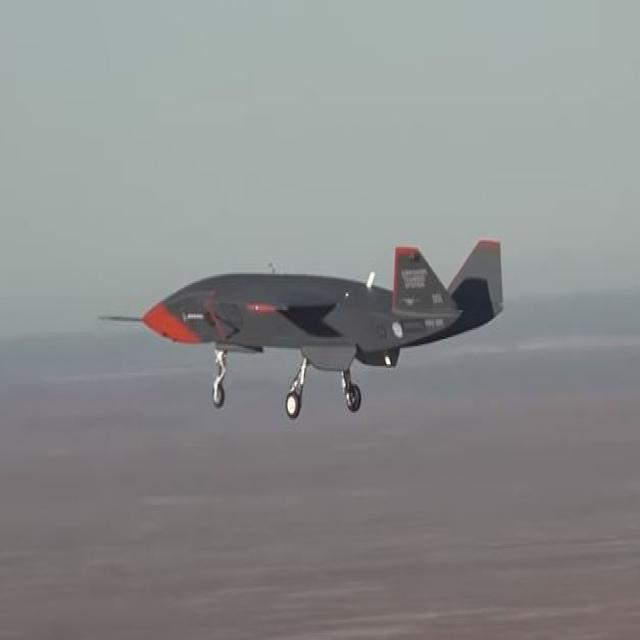iha: (92, 231, 505, 415)
